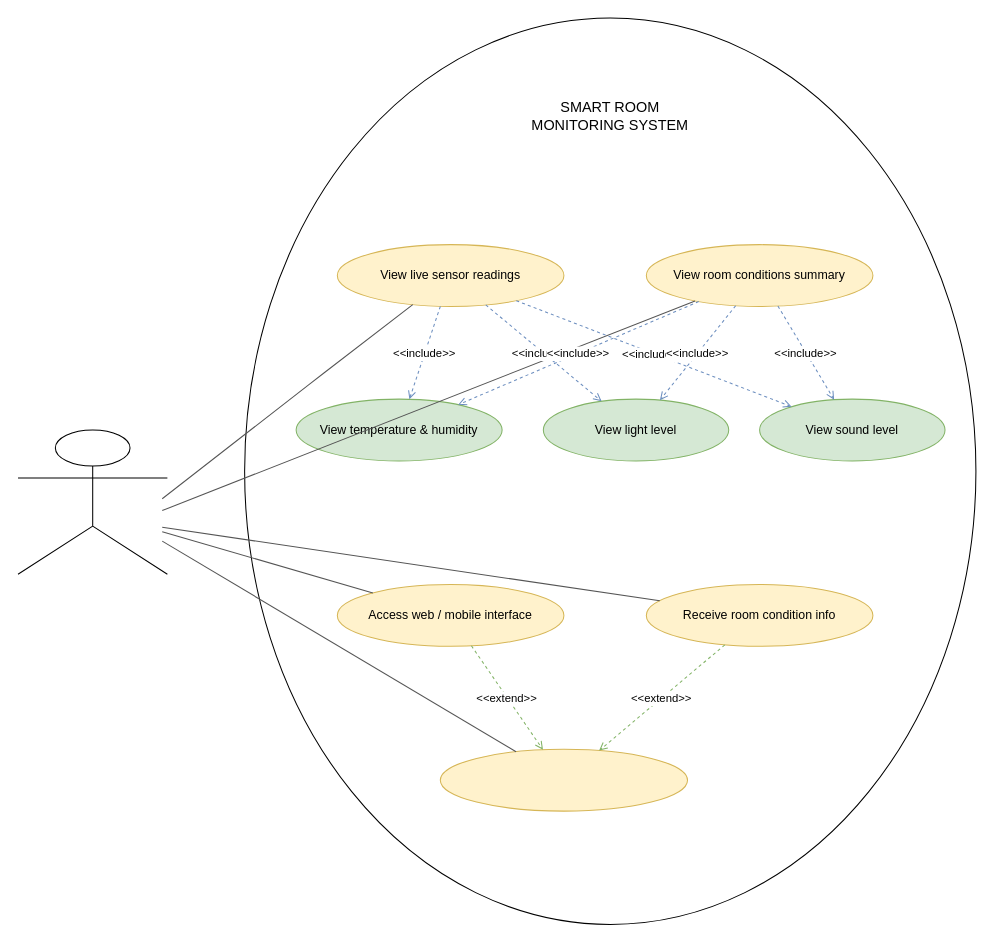
Image size: 994x942. Some labels were removed from this diagram. Here are the shapes that lost their labels. From the top down, the box of each, then its label:
(17, 429, 167, 574): User
(439, 748, 688, 811): Monitor sensor data via dashboard
